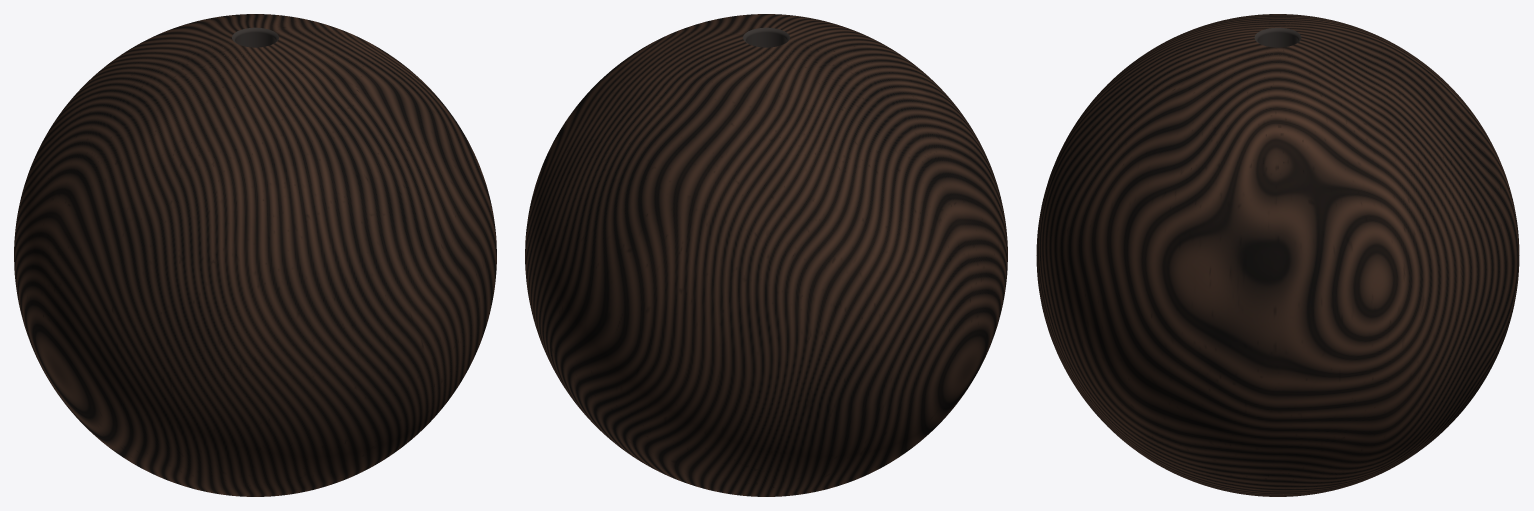
Rendered from wood-ebony-12mm.glb.
3 views of the same model, side by side, from view 1: azimuth 30°, elevation 25°; view 2: azimuth 150°, elevation 25°; view 3: azimuth 270°, elevation 25° (orthographic).
Visible parts, largest first — view 1: ebony; view 2: ebony; view 3: ebony.
Part boxes in pixels (x1=…): ebony: x1=14, y1=14, x2=496, y2=496; ebony: x1=525, y1=14, x2=1007, y2=496; ebony: x1=1036, y1=14, x2=1519, y2=496.
Bounding box in the file's own units: 0.012 × 0.0119 × 0.012.
2 materials, 1 textured.
